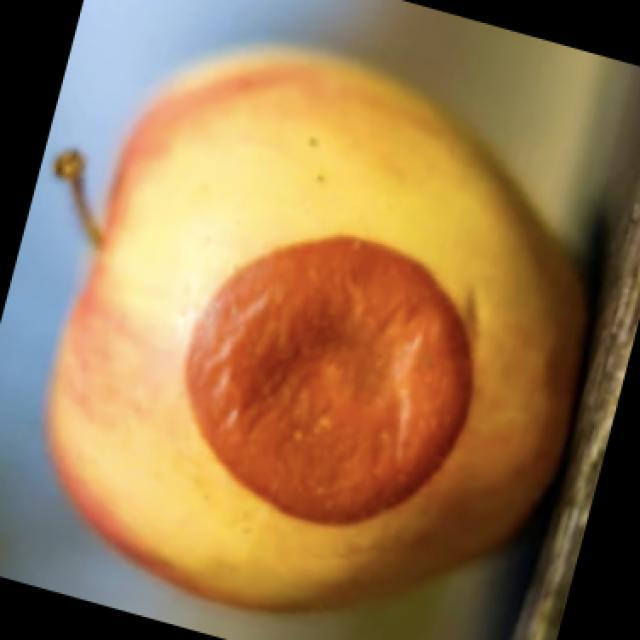Rotten: (65, 63, 552, 602)
